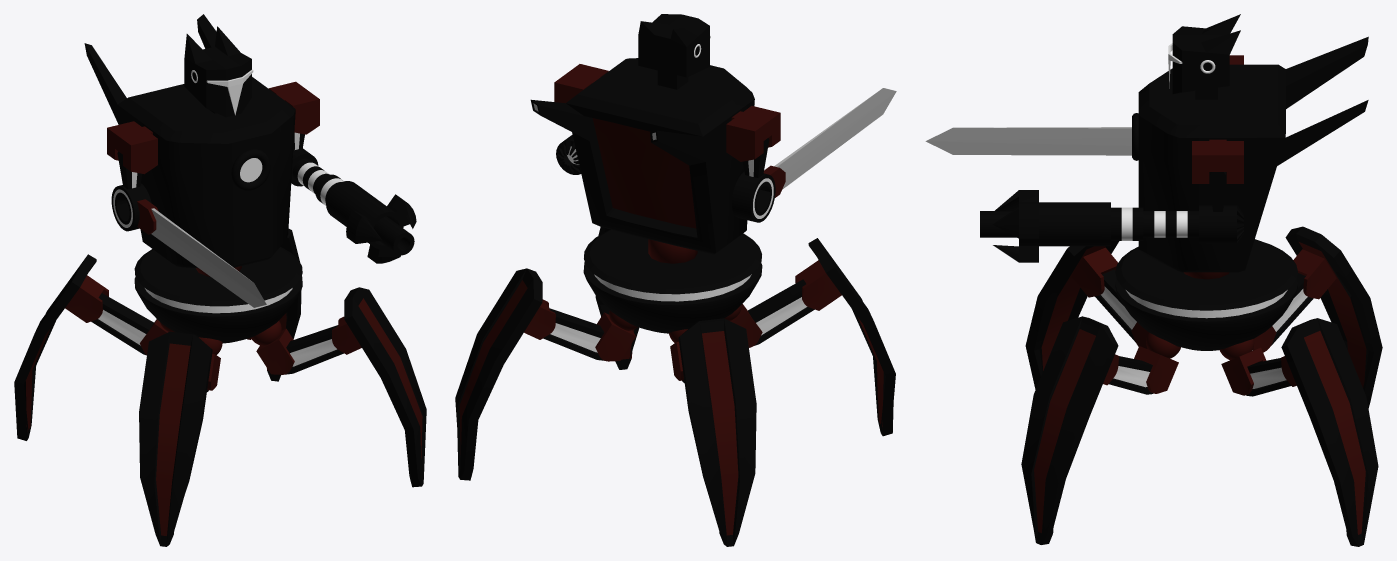
Rendered from FinalBoss.fbx.
The picture shows the model from 3 angles, left to right: view 1: azimuth 30°, elevation 25°; view 2: azimuth 150°, elevation 25°; view 3: azimuth 270°, elevation 25°; orthographic projection. The views are drawn at different scales.
Parts seen in each view (by area): view 1: Body, leg.001, Base, leg.002, Gun, Head, Arm joint, Blade, leg, joint, joint.002, Torus (+6 smaller); view 2: Body, Base, leg, leg.003, Head, Arm joint, Blade, leg.001, joint.001, blade base, joint.003, plug.001 (+5 smaller); view 3: Body, Base, leg.003, leg.002, Gun, Blade, leg, leg.001, Head, Arm joint, plug.001, plug (+7 smaller).
Part boxes in pixels (left/top/right/bottom): Body: left=84, top=14, right=295, bottom=268; leg.001: left=139, top=331, right=212, bottom=546; Base: left=134, top=247, right=302, bottom=343; leg.002: left=344, top=287, right=426, bottom=487; Gun: left=291, top=148, right=416, bottom=263; Head: left=184, top=26, right=251, bottom=117; Arm joint: left=107, top=81, right=319, bottom=174; Blade: left=137, top=199, right=266, bottom=307; leg: left=14, top=254, right=96, bottom=440; joint: left=91, top=293, right=153, bottom=355; joint.002: left=285, top=325, right=343, bottom=374; Torus: left=231, top=149, right=270, bottom=190; Body: left=530, top=58, right=754, bottom=254; Base: left=583, top=229, right=762, bottom=333; leg: left=678, top=318, right=756, bottom=546; leg.003: left=455, top=268, right=542, bottom=480; Head: left=638, top=14, right=709, bottom=77; Arm joint: left=554, top=64, right=780, bottom=161; Blade: left=763, top=88, right=896, bottom=197; leg.001: left=808, top=238, right=895, bottom=436; joint.001: left=748, top=279, right=814, bottom=345; blade base: left=732, top=171, right=775, bottom=222; joint.003: left=543, top=308, right=604, bottom=360; plug.001: left=795, top=260, right=841, bottom=310; Body: left=1138, top=36, right=1368, bottom=272; Base: left=1115, top=239, right=1297, bottom=350; leg.003: left=1281, top=318, right=1378, bottom=546; leg.002: left=1021, top=316, right=1118, bottom=544; Gun: left=980, top=190, right=1243, bottom=262; Blade: left=925, top=127, right=1131, bottom=155; leg: left=1285, top=226, right=1382, bottom=408; leg.001: left=1025, top=241, right=1119, bottom=389; Head: left=1172, top=14, right=1240, bottom=93; Arm joint: left=1192, top=55, right=1243, bottom=183; plug.001: left=1071, top=247, right=1117, bottom=297; plug: left=1293, top=249, right=1336, bottom=299.
Size of the model in its own units: 7.3 by 9.24 by 10.17.
